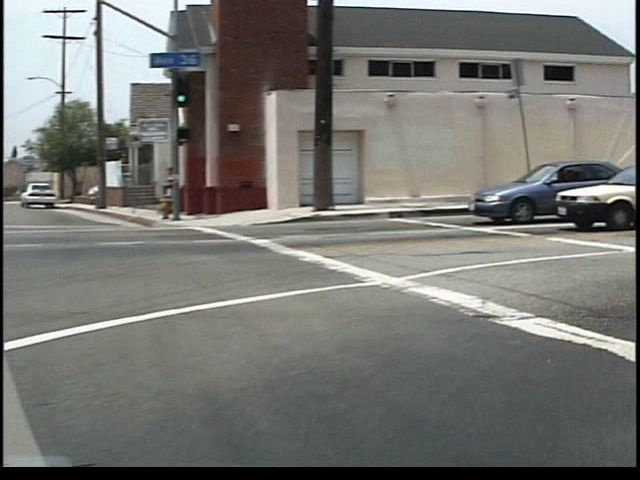person: (170, 165, 190, 220)
